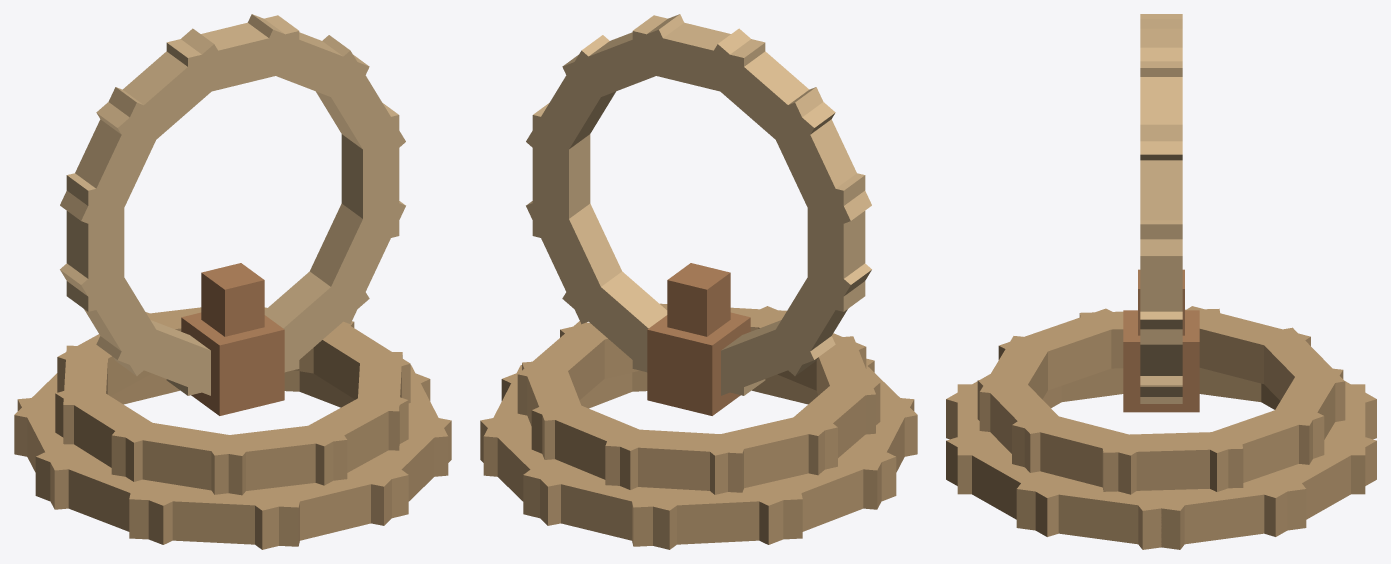
The model's file is lasso.glb.
3 views of the same model, side by side, from view 1: azimuth 30°, elevation 25°; view 2: azimuth 150°, elevation 25°; view 3: azimuth 270°, elevation 25° (orthographic).
Visible parts, largest first — view 1: lasso; view 2: lasso; view 3: lasso.
Boxes of the visible parts, x1,y1,x2,y2 form: lasso: (14, 14, 451, 549); lasso: (480, 14, 917, 549); lasso: (946, 14, 1376, 549).
Bounding box in the file's own units: 0.5 × 0.5447 × 0.5.
